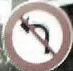Don't turn left: (4, 1, 67, 67)
